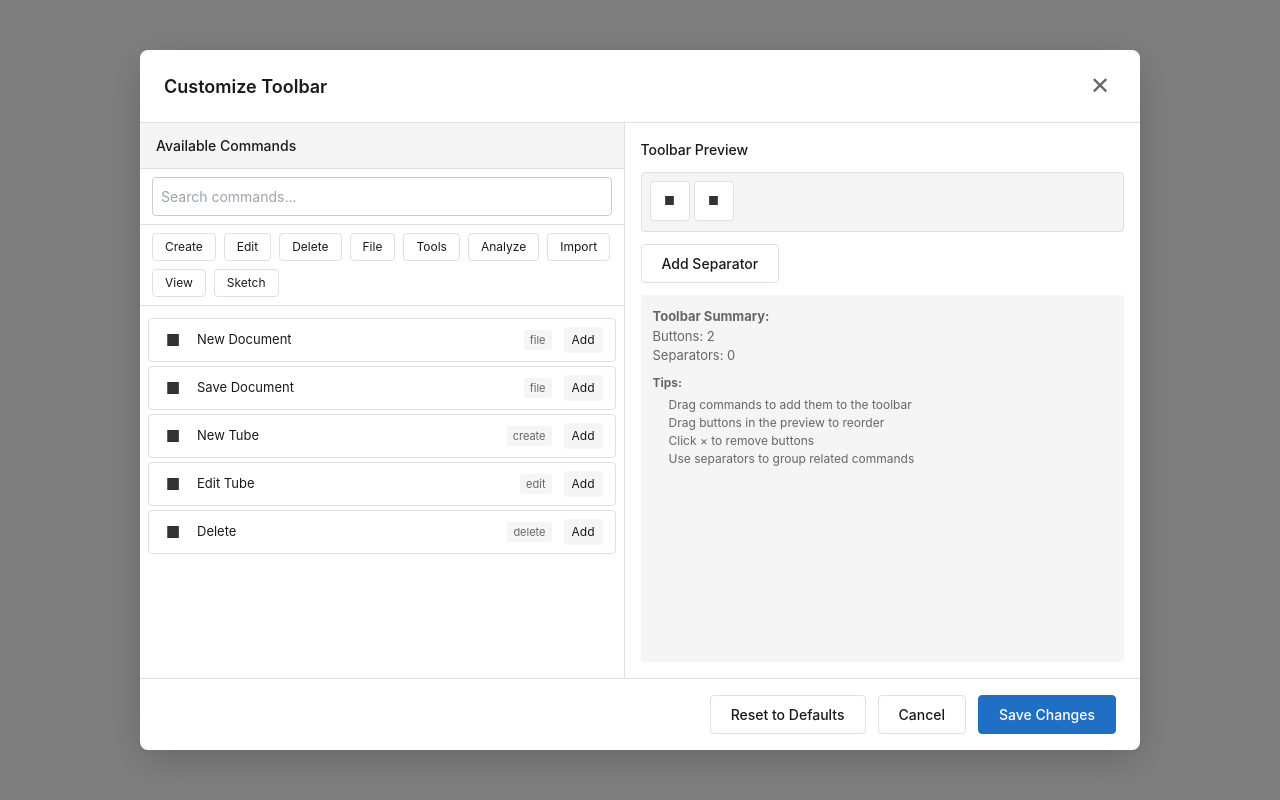
Test case: ToolbarCustomizationDialog › Search Functionality › should clear filters when clicking active filter
The image size is (1280, 800).
Click the button "Create" at point(184, 247), box x1=152 y1=233 x2=216 y2=261
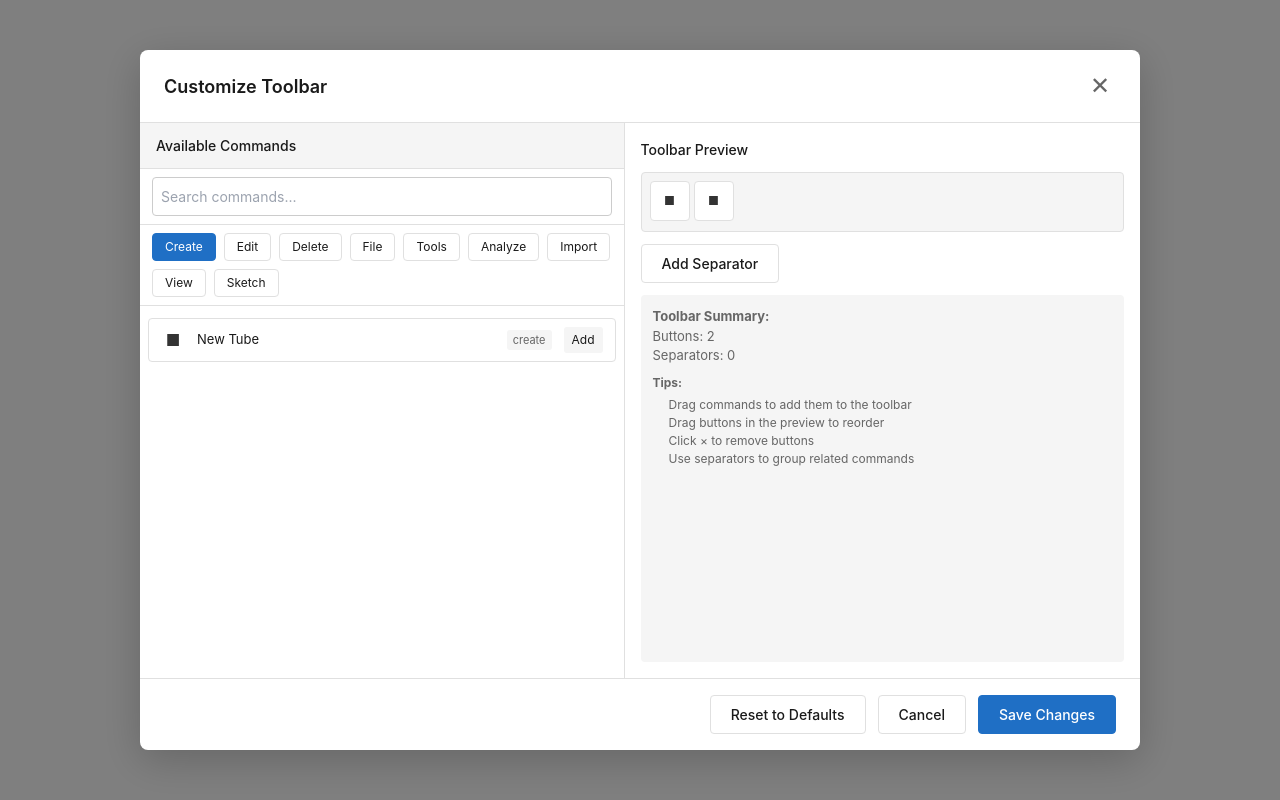
Click the button "Create" at point(184, 247), box x1=152 y1=233 x2=216 y2=261
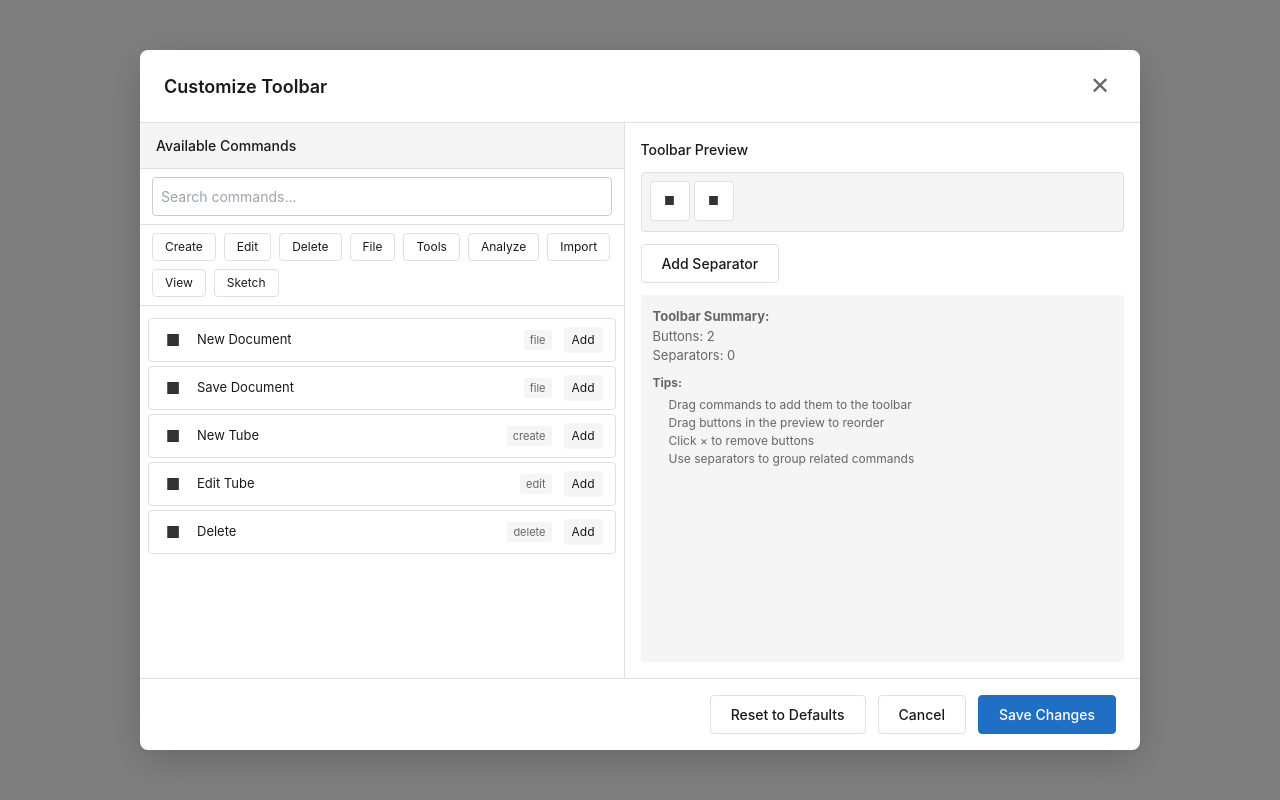
expect the text "New Tube" is shown: met, box x1=197 y1=427 x2=259 y2=443
expect the text "New Document" is shown: met, box x1=197 y1=331 x2=292 y2=347
